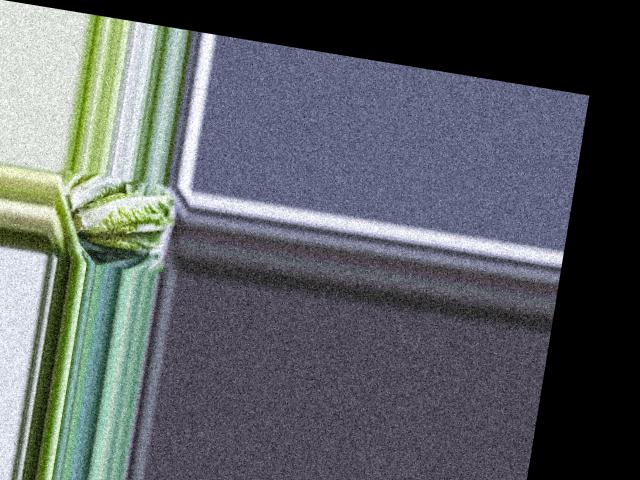lettuce: (69, 180, 176, 257)
